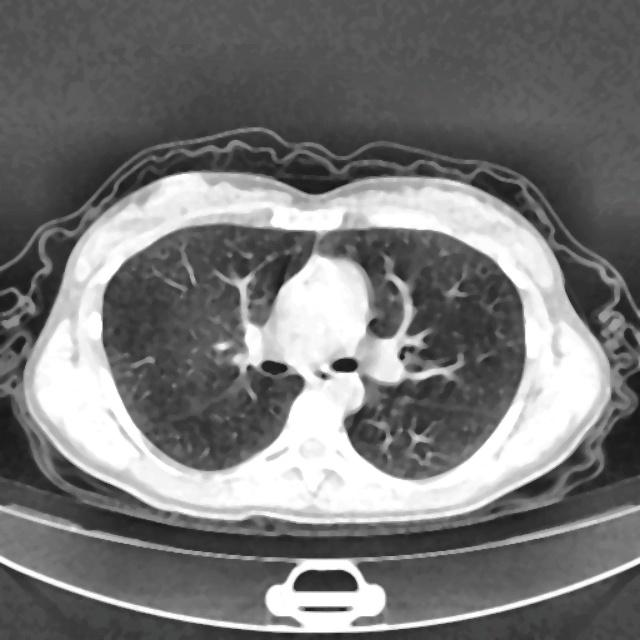covid: (13, 158, 622, 534)
